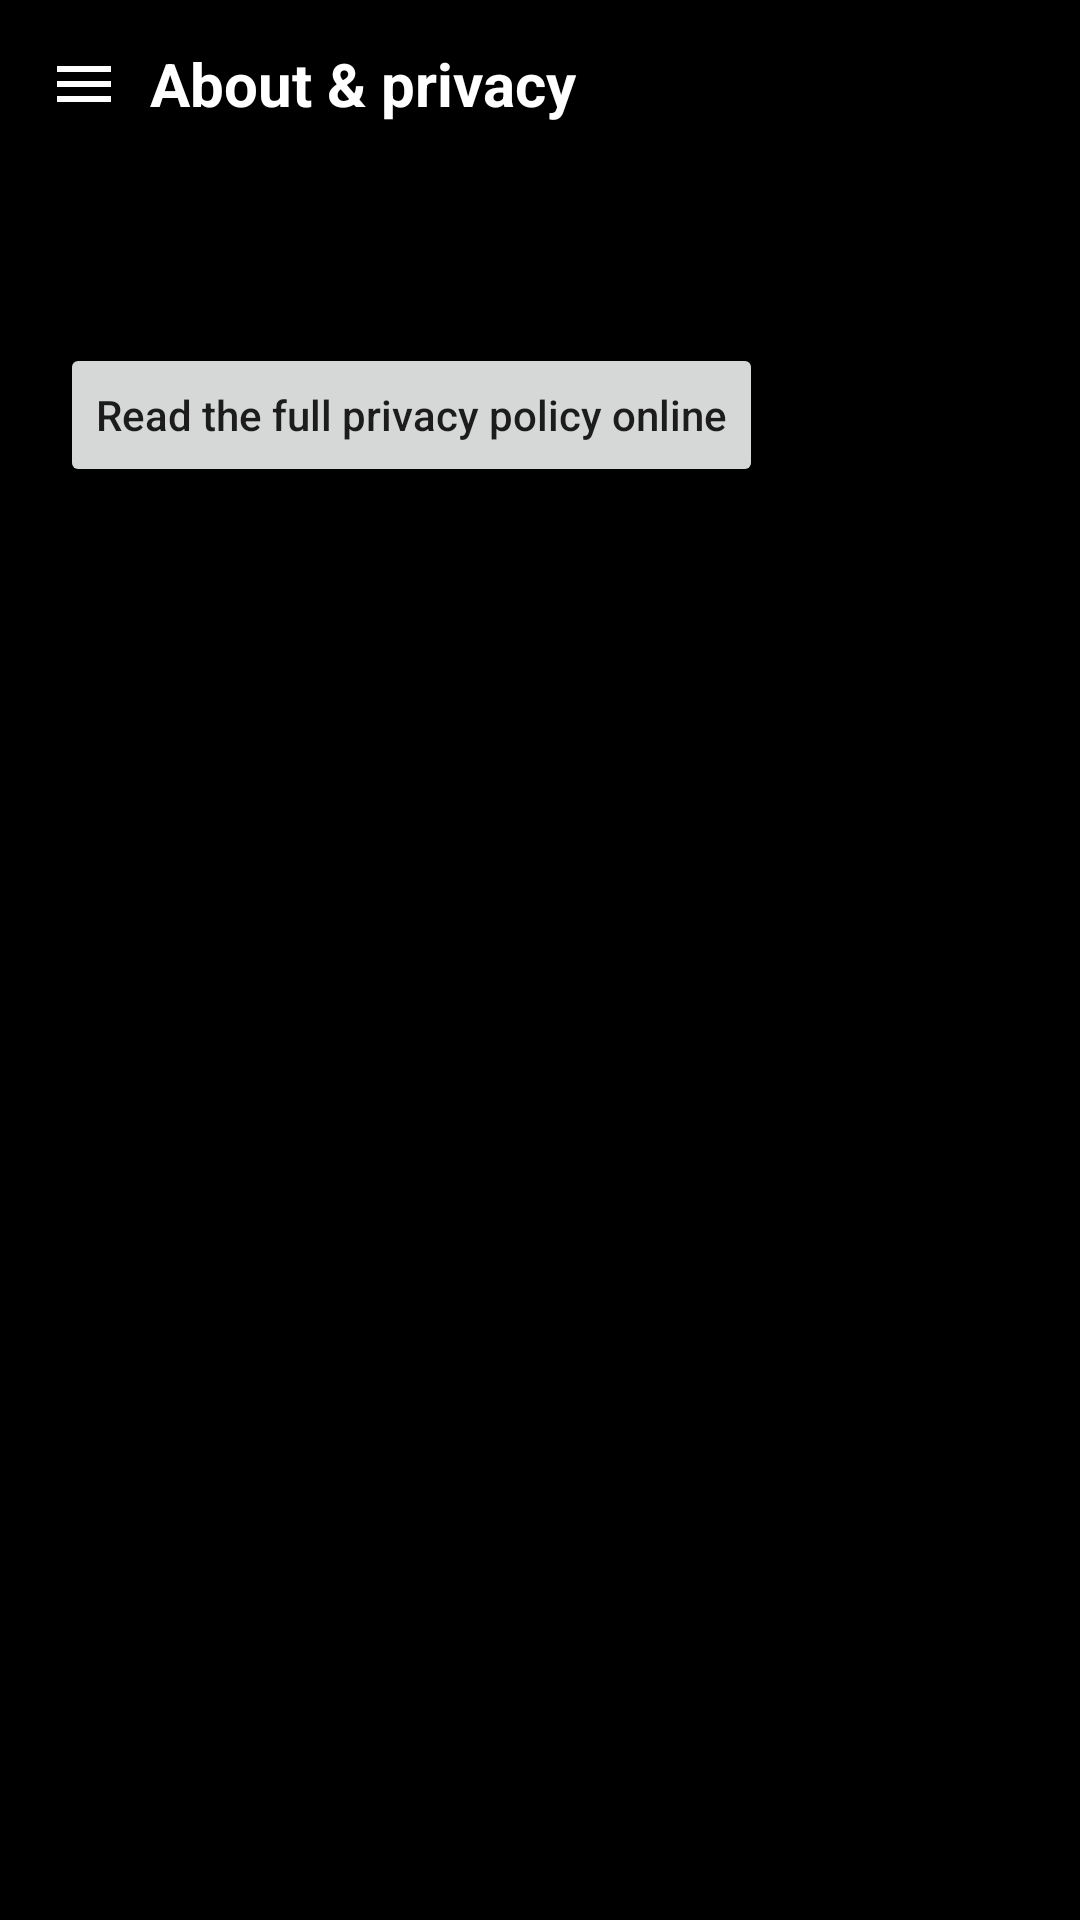

Icons on this 1080w x 1920h Android screen, each with its box as (x1, y1, x2, y2):
Open menu: (57, 66, 111, 102)
